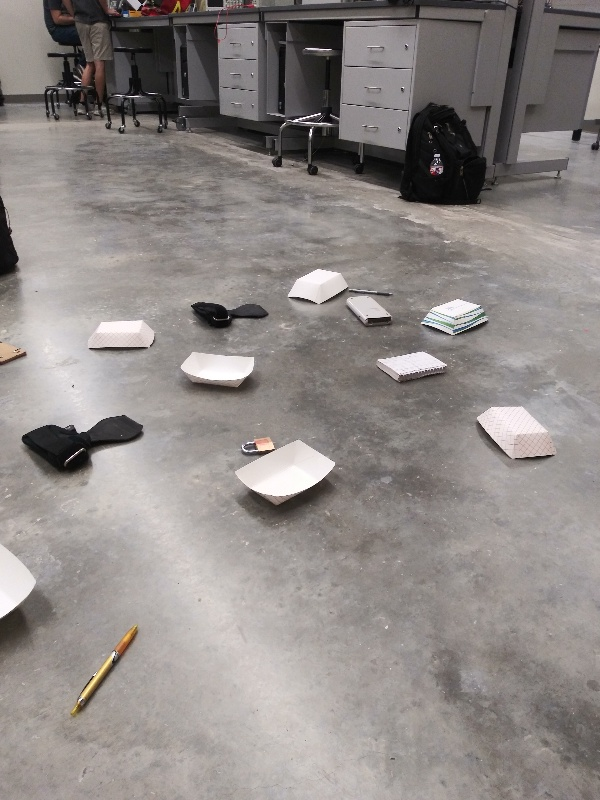plate: (232, 436, 339, 517), (472, 404, 563, 463), (1, 533, 41, 639), (175, 349, 259, 392), (414, 298, 494, 338), (82, 316, 158, 354), (281, 266, 352, 306)
